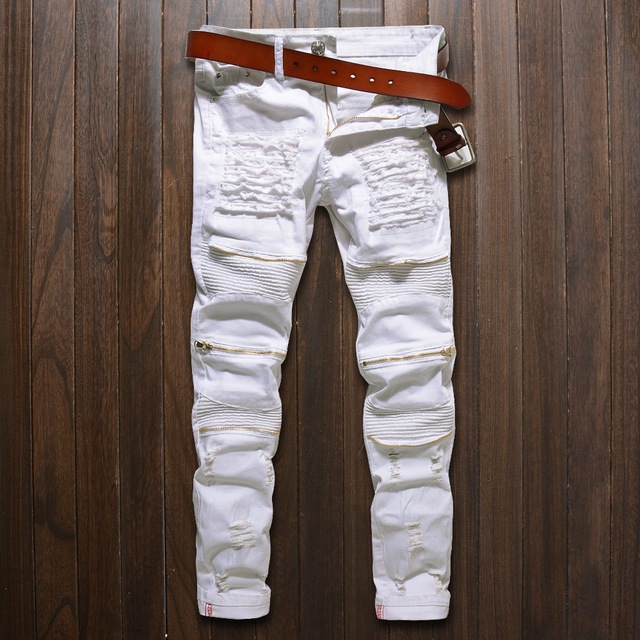jeans: (167, 20, 479, 626)
